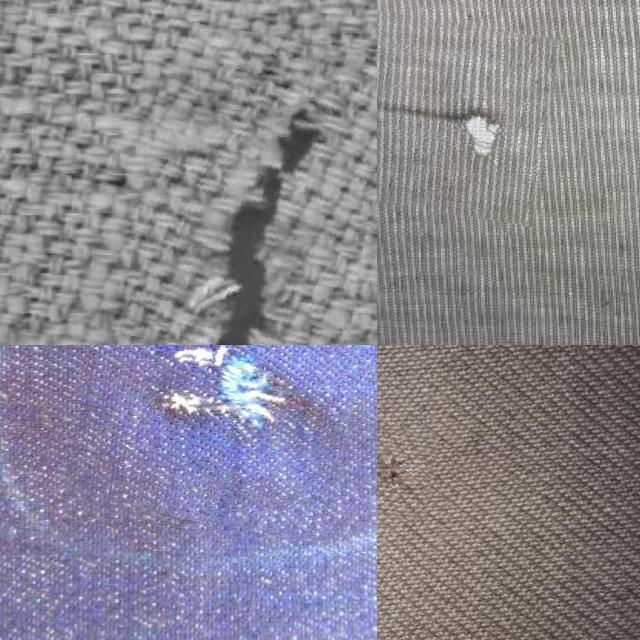other: (112, 27, 376, 345), (377, 13, 555, 219), (377, 426, 434, 520)
stains: (68, 345, 362, 532)
